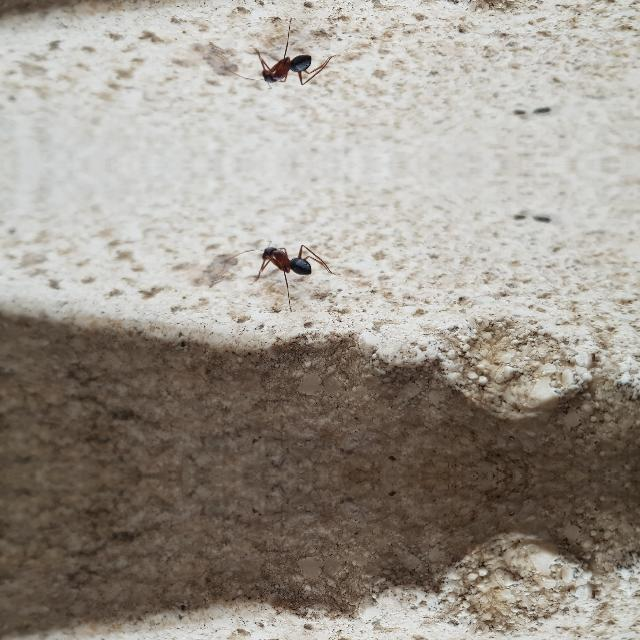Camponotus: (236, 236, 336, 284), (236, 44, 336, 92)
